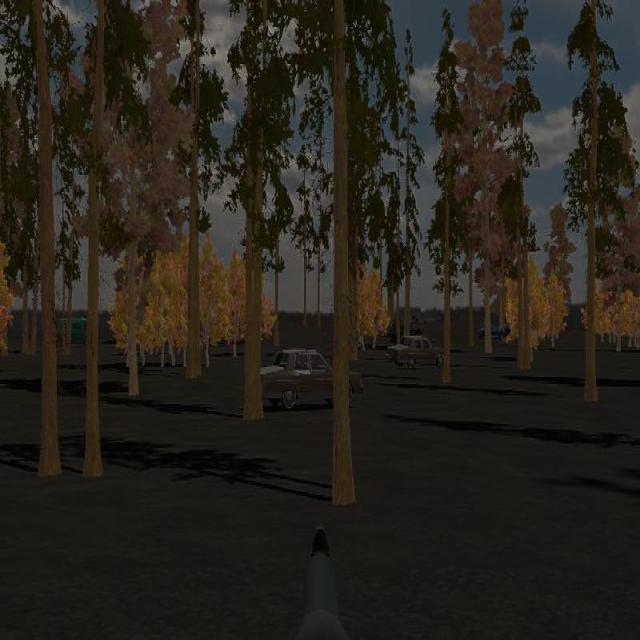car: (259, 347, 364, 411), (393, 335, 442, 370)
